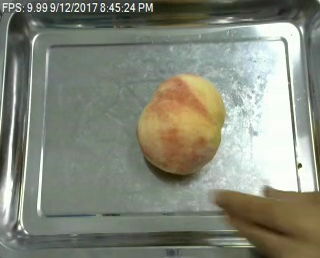Peach: (137, 73, 225, 174)
